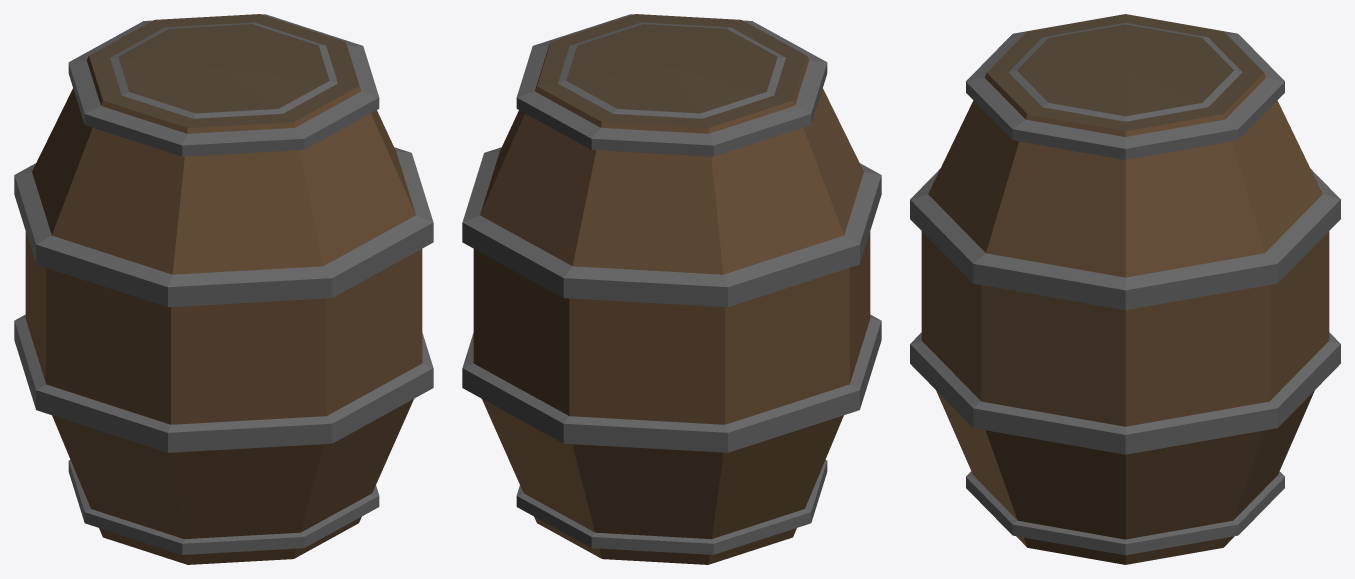
The model's file is Barrel.fbx.
3 views of the same model, side by side, from view 1: azimuth 30°, elevation 25°; view 2: azimuth 150°, elevation 25°; view 3: azimuth 270°, elevation 25° (orthographic).
Visible parts, largest first — view 1: pCylinder39; view 2: pCylinder39; view 3: pCylinder39.
Part boxes in pixels (<box>): pCylinder39: <box>14,14,433,564</box>; pCylinder39: <box>462,14,881,564</box>; pCylinder39: <box>910,14,1340,564</box>.
Bounding box in the file's own units: 49.81 × 55.79 × 49.81.
1 material, 1 textured.
